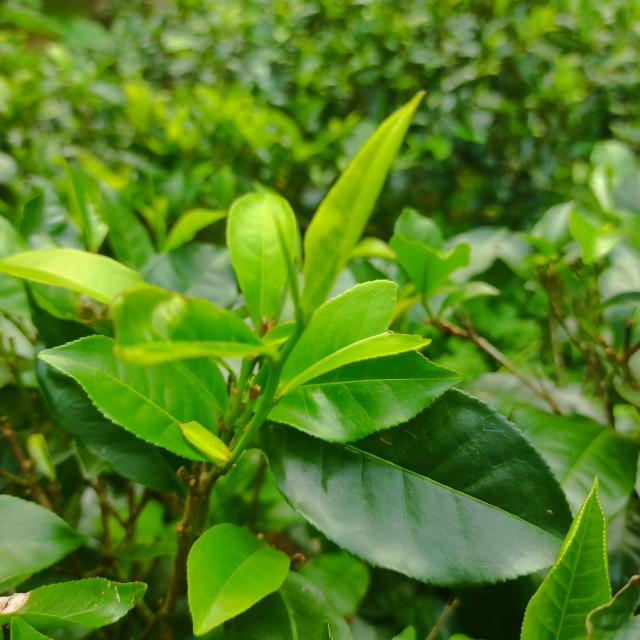unopened_leaf: (264, 207, 306, 338)
